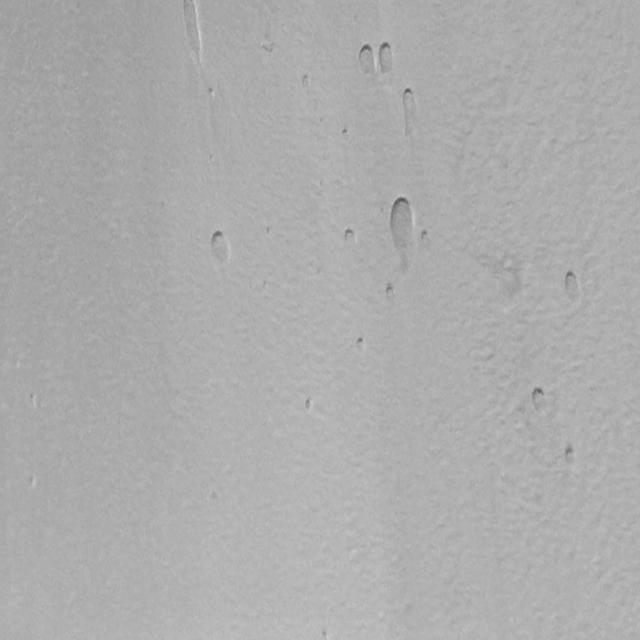pin holes: (385, 192, 418, 258), (179, 0, 203, 64), (396, 88, 421, 134), (206, 230, 234, 268), (376, 41, 399, 74), (357, 42, 379, 76), (562, 270, 584, 302), (530, 385, 553, 414), (561, 442, 580, 470), (340, 227, 360, 249), (25, 391, 43, 414), (382, 283, 397, 304), (303, 396, 317, 416), (261, 40, 278, 56), (355, 335, 369, 354), (300, 74, 313, 93), (418, 229, 431, 244), (339, 126, 352, 140), (318, 626, 332, 638), (208, 86, 216, 98), (266, 226, 270, 238)
